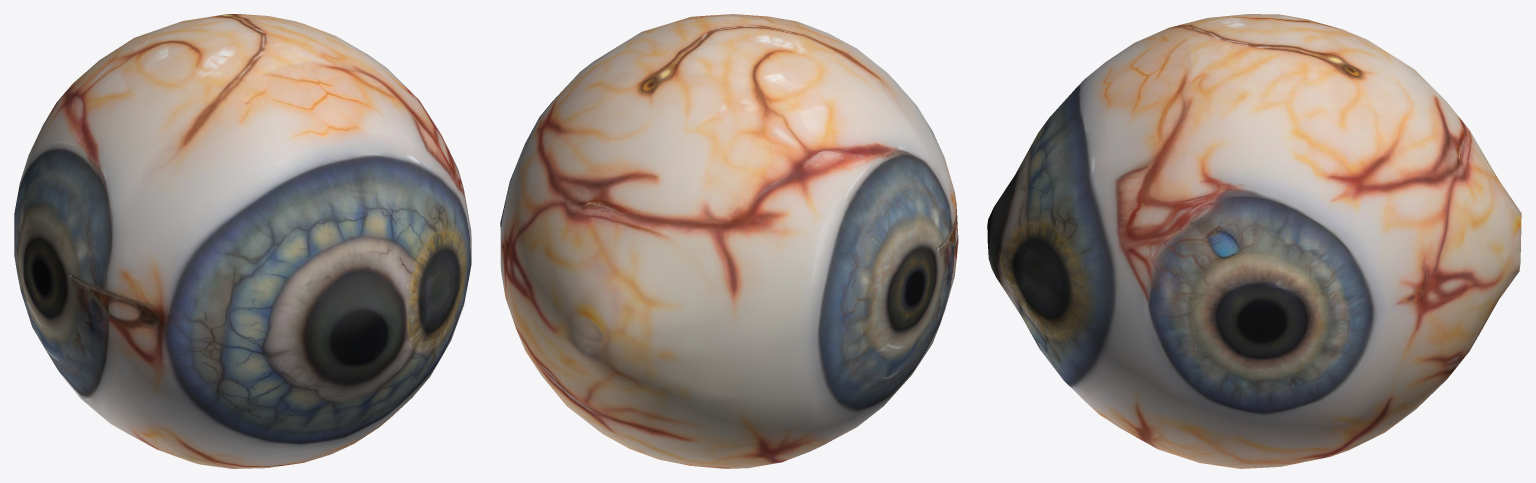
The picture shows the model from 3 angles, left to right: view 1: azimuth 30°, elevation 25°; view 2: azimuth 150°, elevation 25°; view 3: azimuth 270°, elevation 25°; orthographic projection.
Parts seen in each view (by area): view 1: Mesh1.0; view 2: Mesh1.0; view 3: Mesh1.0.
Boxes of the visible parts, x1=… form: Mesh1.0: x1=14, y1=14, x2=471, y2=468; Mesh1.0: x1=500, y1=14, x2=958, y2=468; Mesh1.0: x1=987, y1=14, x2=1521, y2=468.
Bounding box in the file's own units: 169 × 171 × 200.
1 material, 1 textured.
